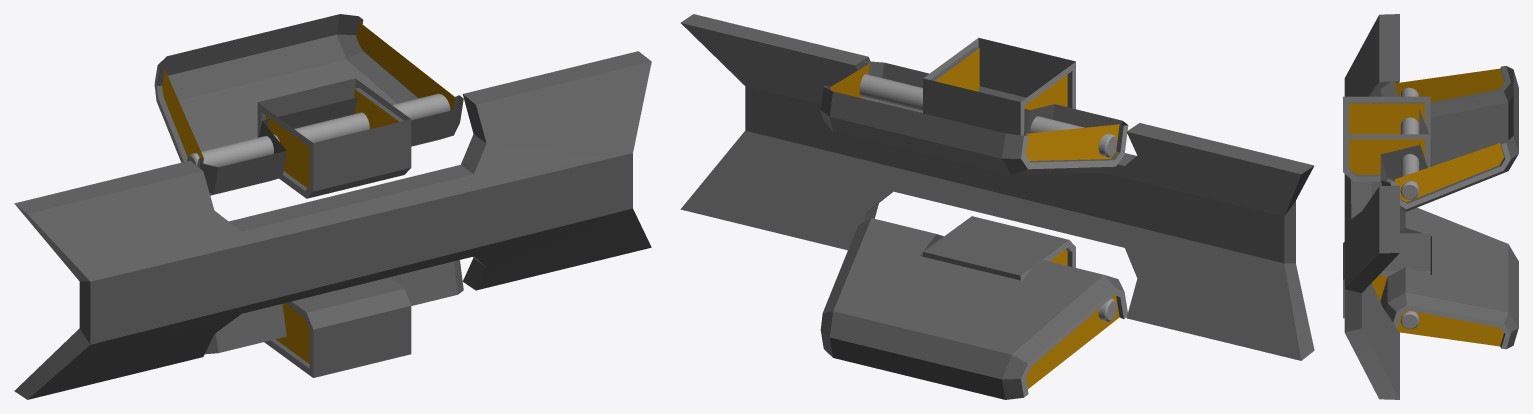
File: env_building_warehouse01hinge.fbx
The picture shows the model from 3 angles, left to right: view 1: azimuth 30°, elevation 25°; view 2: azimuth 150°, elevation 25°; view 3: azimuth 270°, elevation 25°; orthographic projection. The views are drawn at different scales.
Parts seen in each view (by area): view 1: polySurface1077; view 2: polySurface1077; view 3: polySurface1077.
Part boxes in pixels (x1=…): polySurface1077: x1=14, y1=14, x2=651, y2=399; polySurface1077: x1=680, y1=14, x2=1314, y2=399; polySurface1077: x1=1343, y1=14, x2=1518, y2=399.
Bounding box in the file's own units: 1.26 × 0.5156 × 0.391.
